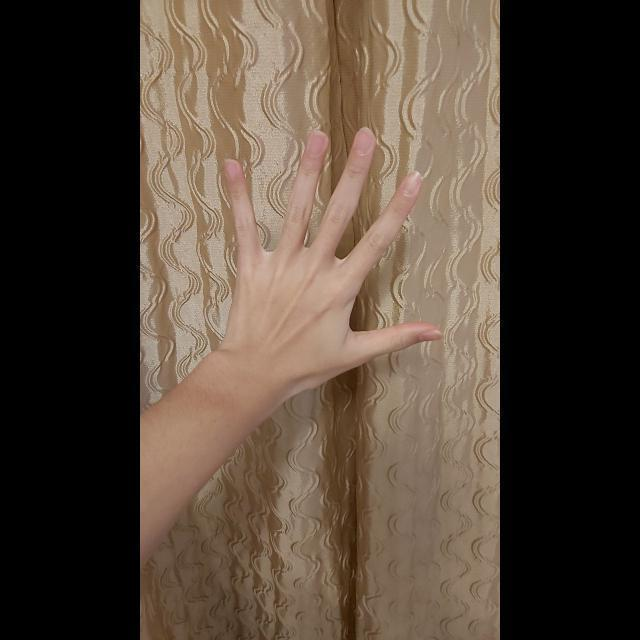bare_hand: (223, 127, 445, 381)
